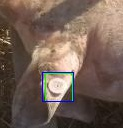text: (45, 73, 72, 101)
